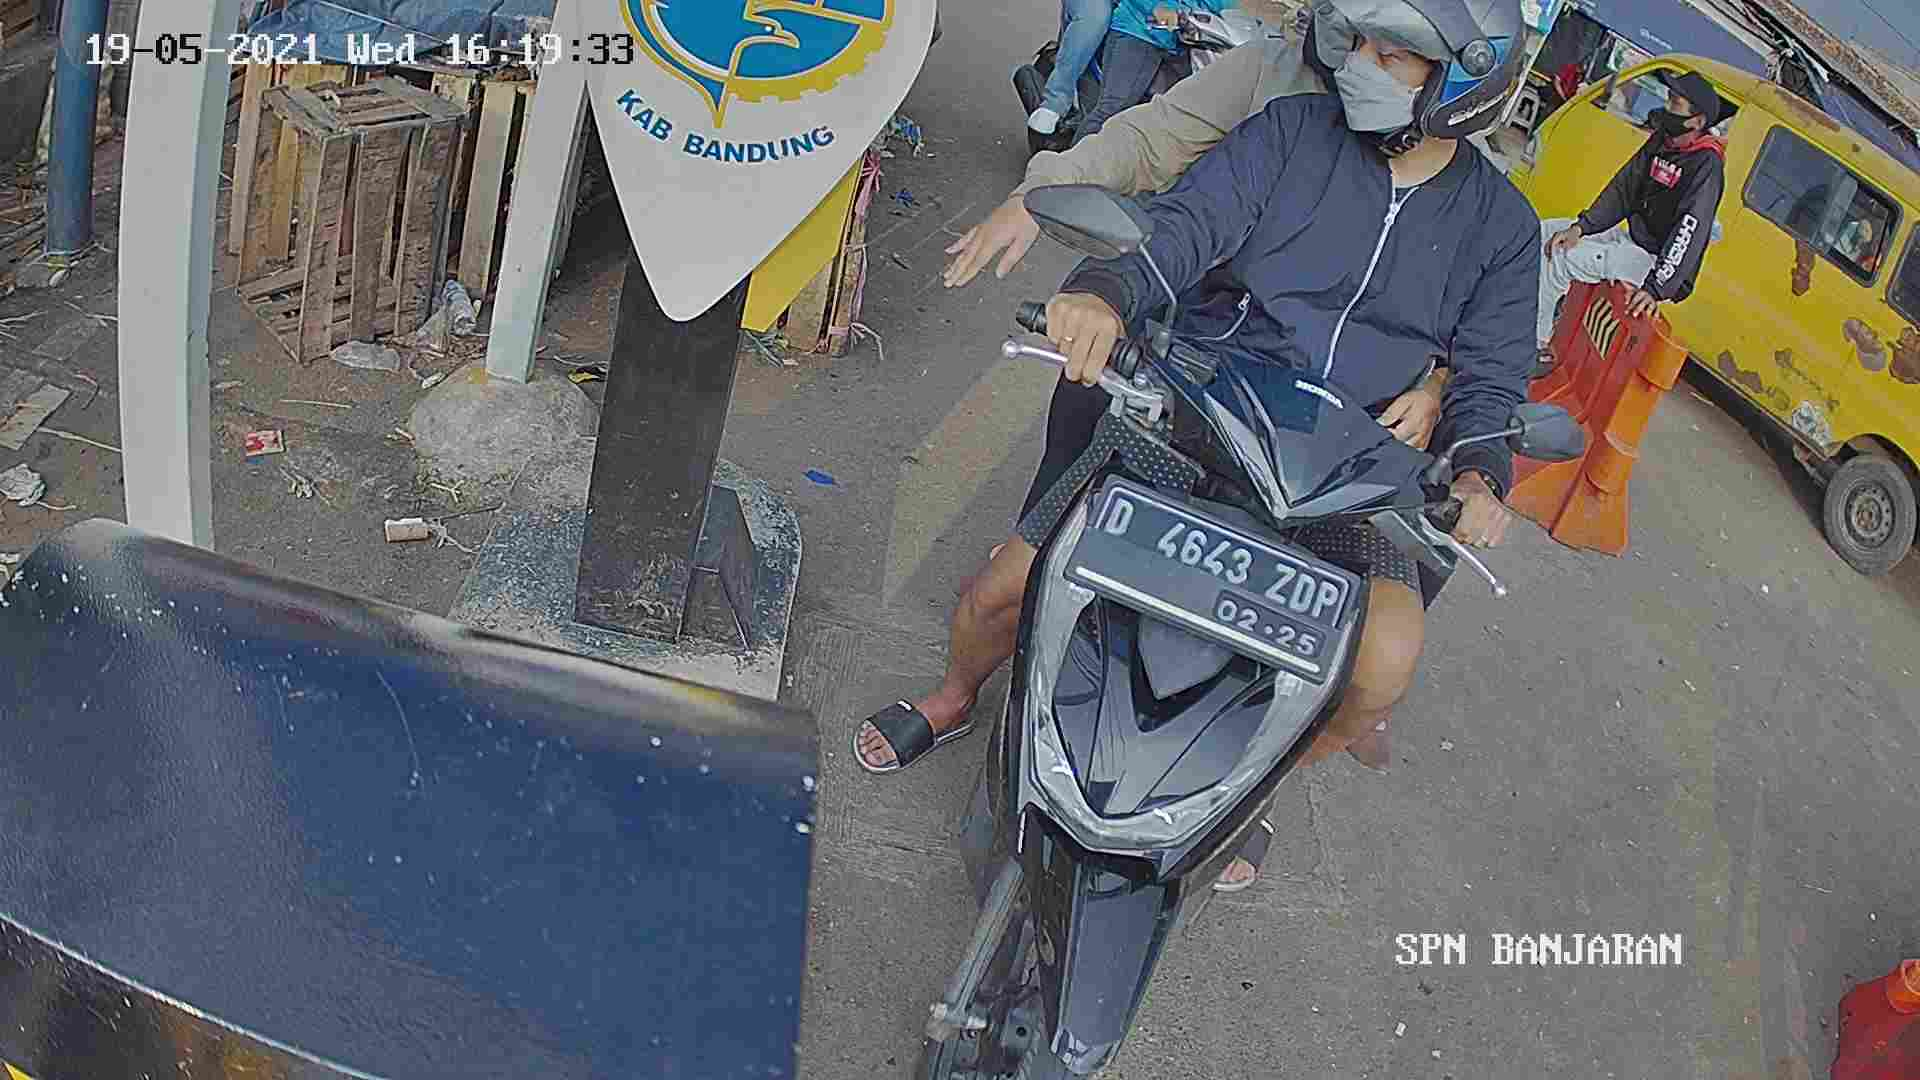motor: (967, 258, 1414, 1080)
